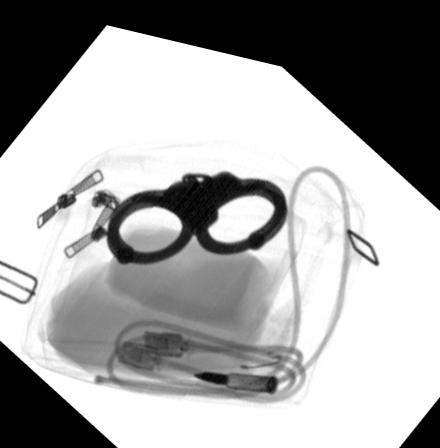Bullet: (190, 360, 277, 381)
HandCuffs: (103, 156, 290, 263)
